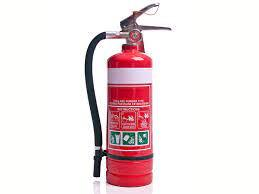Fire Extinguisher: (79, 2, 173, 191)
